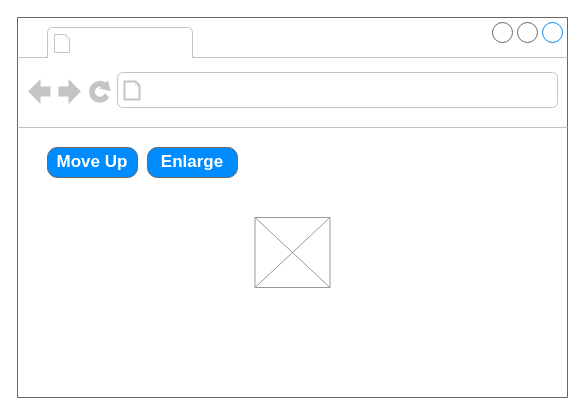
Some shapes in this 585 by 415 pixel diagram are drawn without their labels. The centre of each missing label's shape, as x and y in pixels:
https://www.draw.io: point 272,90
Page 1: point 132,42
